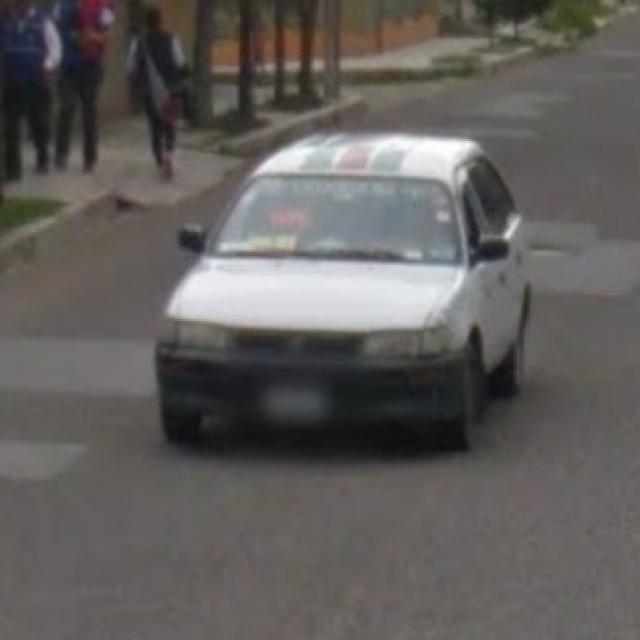cars: (172, 142, 524, 436)
